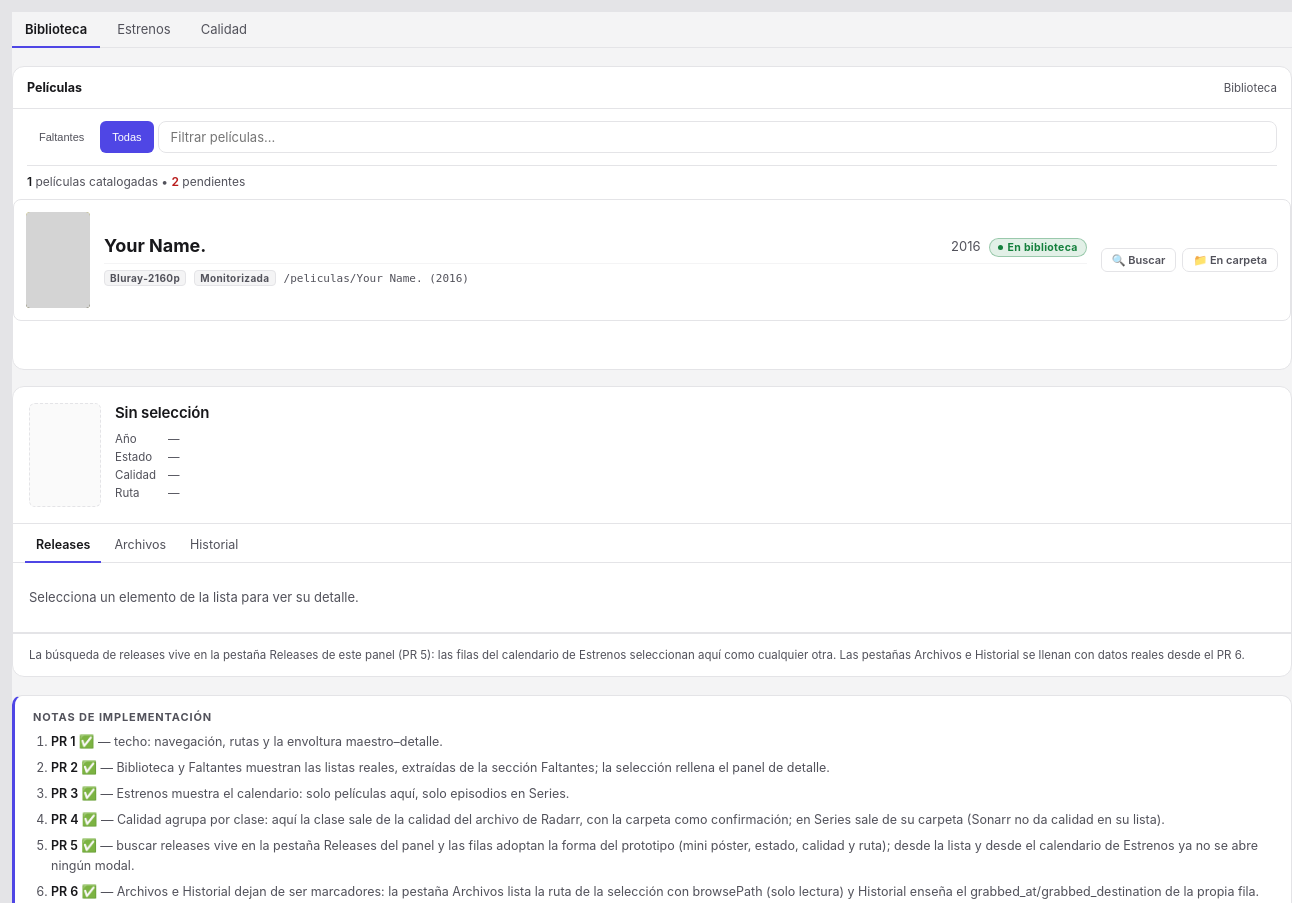
Test: sections · the release search in the panel › keeps the panel honest when nothing is selected
Expected: the text "Your Name." is shown, [104,235,206,256]
# Selecting brings the inline search with it…
Step 1. Click the element with class "sec-row" → {"x": 652, "y": 260}, box [13,199,1291,321]
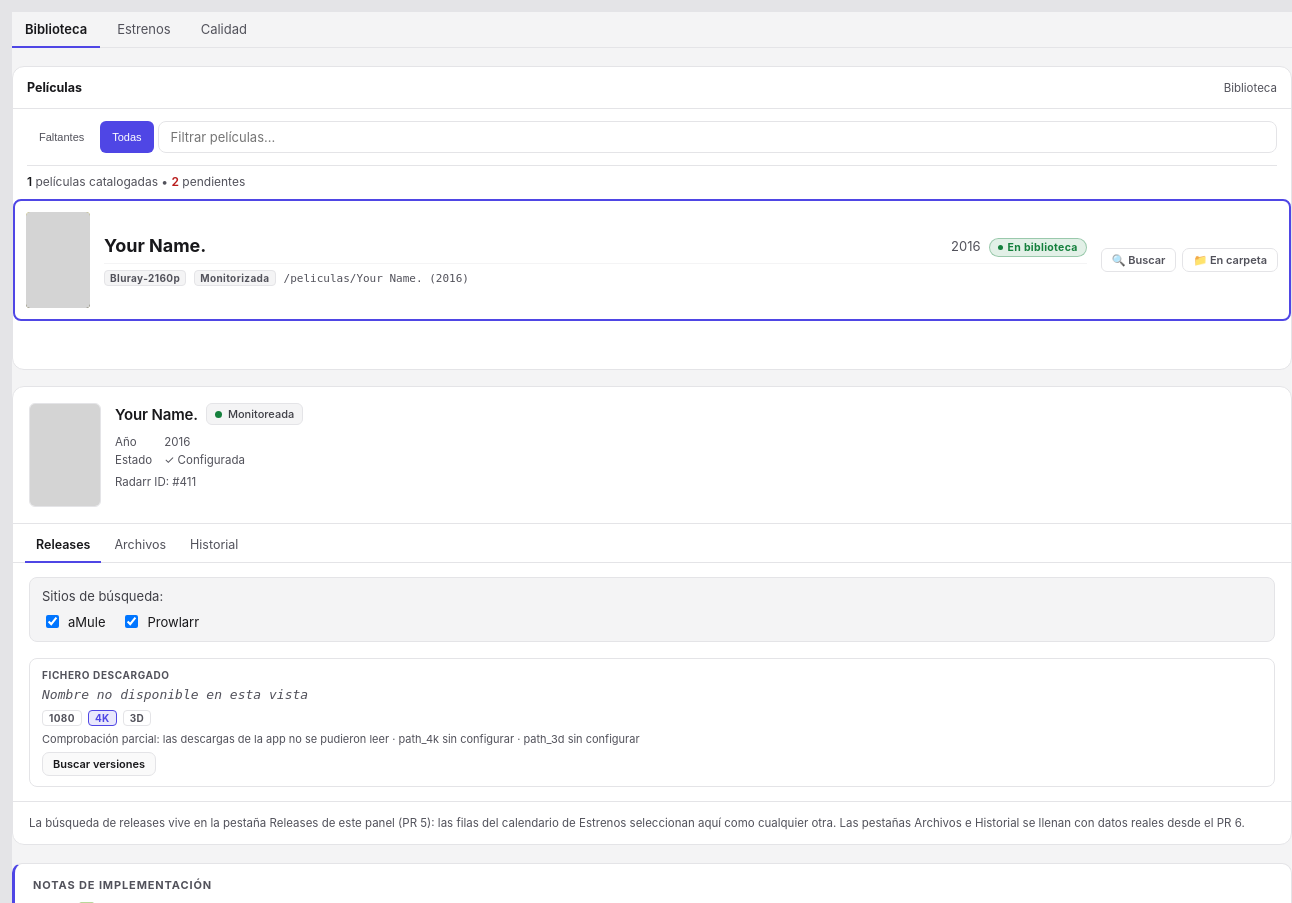
Expected: the element with class "release-inline" is shown, [13,563,1291,801]
Step 2. Click the button "Faltantes" → {"x": 62, "y": 137}, box [27,121,96,153]
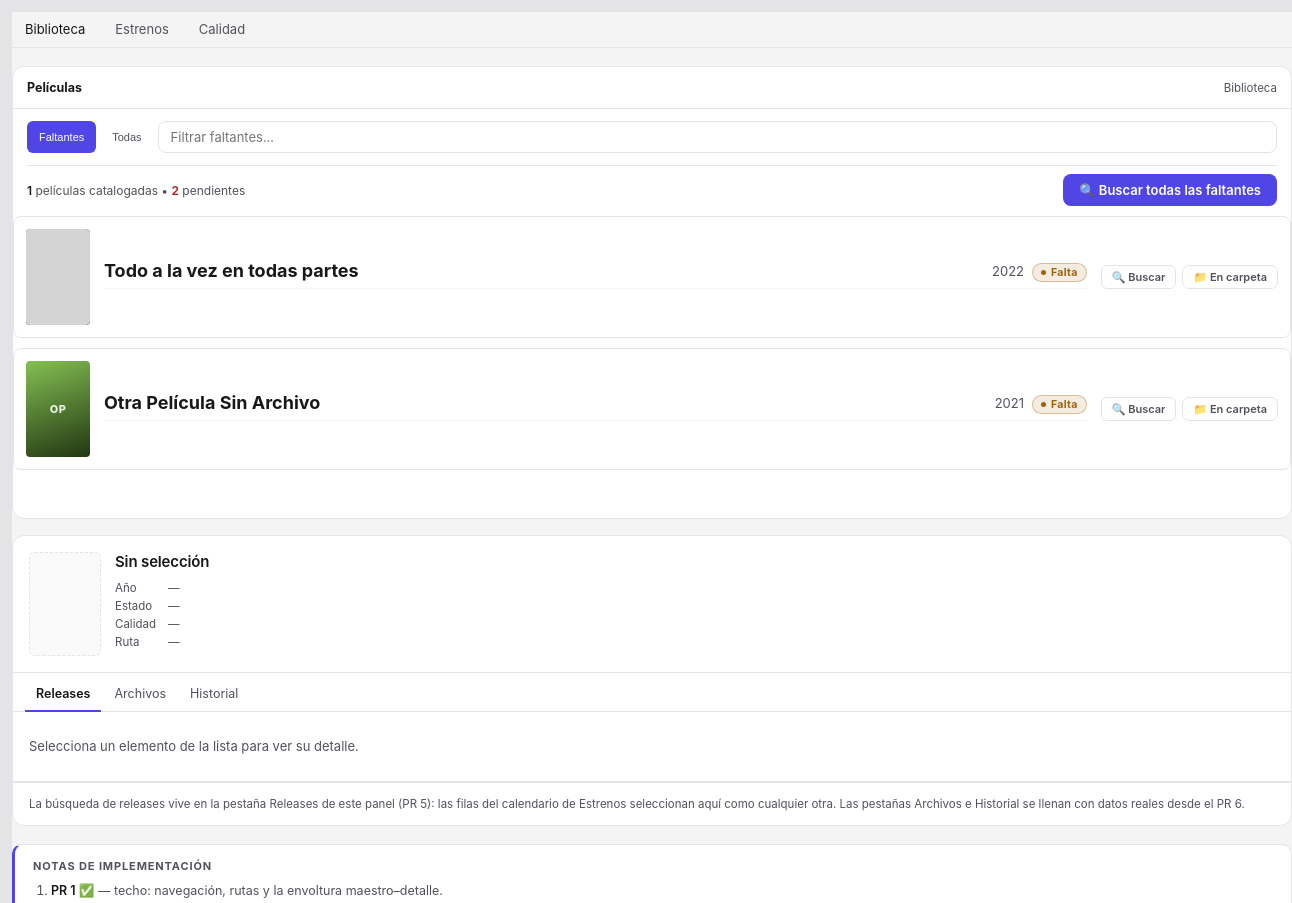
Expected: the element with class "release-inline" is gone
Expected: the text "Selecciona un elemento de la lista para ver su detalle." is shown, [13,712,1291,782]
